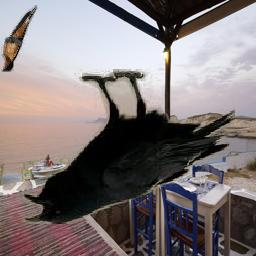Crow: (23, 70, 236, 225)
Swallow: (2, 6, 39, 73)
